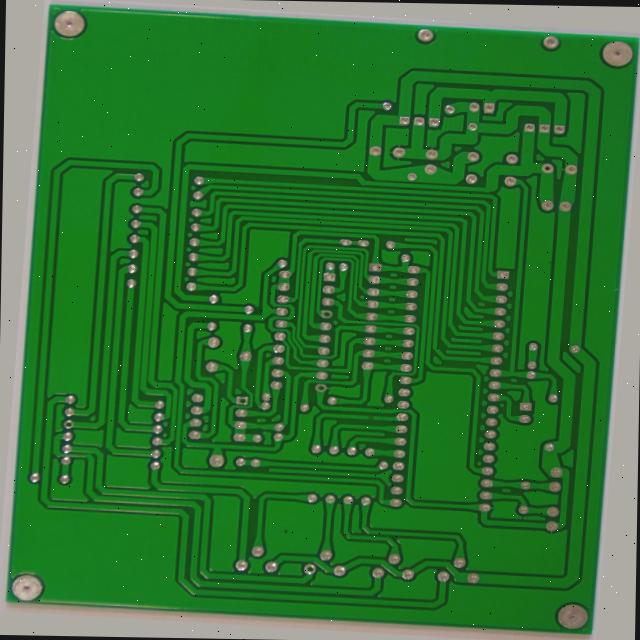missing_hole: (233, 398, 251, 414), (316, 381, 334, 396), (317, 570, 333, 586), (52, 431, 68, 445), (317, 306, 333, 318)
